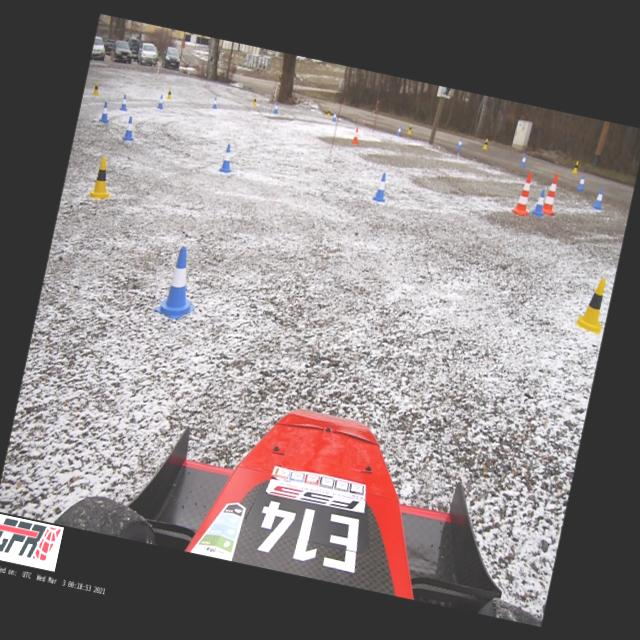blue_cone: (154, 244, 206, 322), (218, 142, 236, 172), (372, 171, 389, 202), (532, 188, 548, 216), (121, 115, 138, 141), (591, 188, 605, 210), (98, 101, 112, 123), (576, 172, 586, 192), (119, 94, 130, 111), (157, 94, 166, 109), (519, 153, 527, 167), (456, 137, 462, 150), (212, 96, 218, 109), (396, 124, 402, 136), (272, 102, 278, 114), (331, 110, 337, 122)
large_orange_cone: (511, 170, 537, 217), (542, 172, 562, 216)
orange_cone: (350, 126, 360, 144)
yellow_cone: (574, 274, 611, 334), (88, 155, 116, 200), (570, 158, 580, 174), (92, 82, 100, 95), (482, 137, 489, 150), (165, 87, 172, 99), (406, 124, 412, 135), (326, 107, 331, 118), (252, 96, 256, 106)
